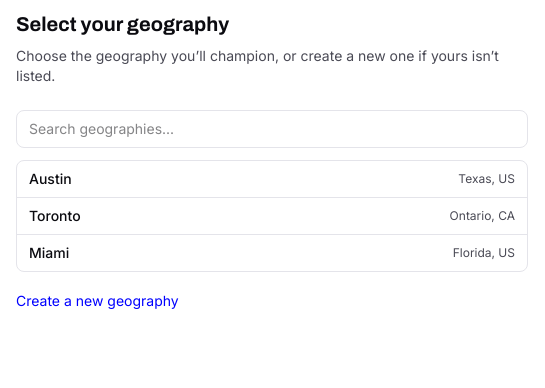
Test: GeographyPicker › shows error banner when server action fails
The width and height of the screenshot is (545, 388).
Click the text "Austin" at (50, 179), box top-left (29, 169), bottom-right (72, 189)
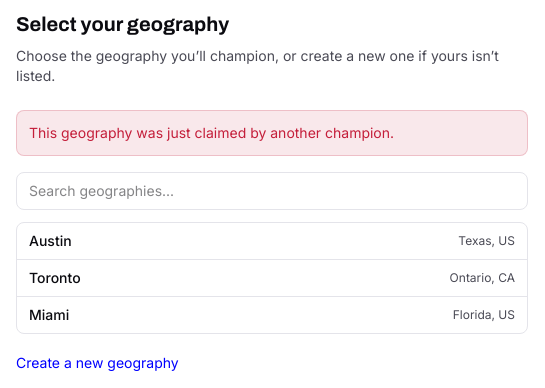
Expected: the text "This geography was just claimed by another champion." is shown, top-left (16, 110), bottom-right (528, 156)
